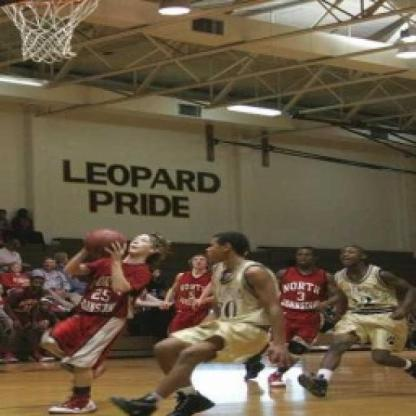basketball: (80, 222, 128, 264)
